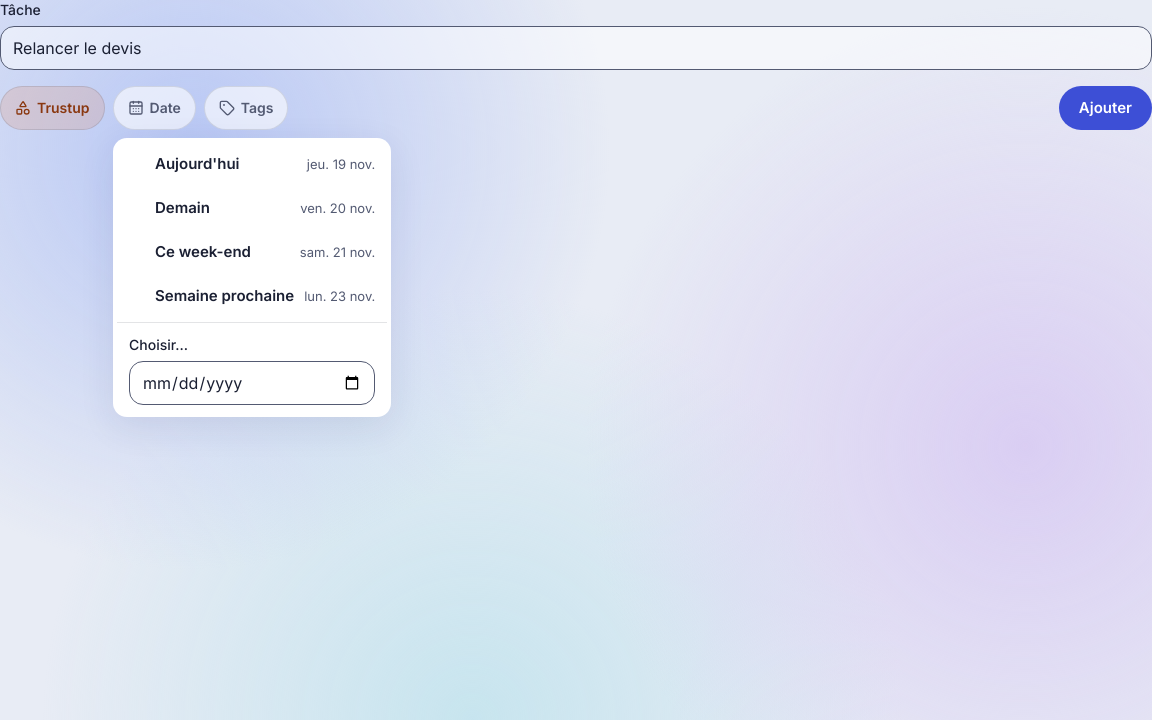
Test case: ajout rapide : formulaire tâche › succès : titre, date et tags vidés, espace gardé, focus au titre, message avec lien Ouvrir
Earlier steps of the test are not shown.
Step 1. Click the button "Demain ven. 20 nov." → [182, 207], box [117, 186, 387, 230]
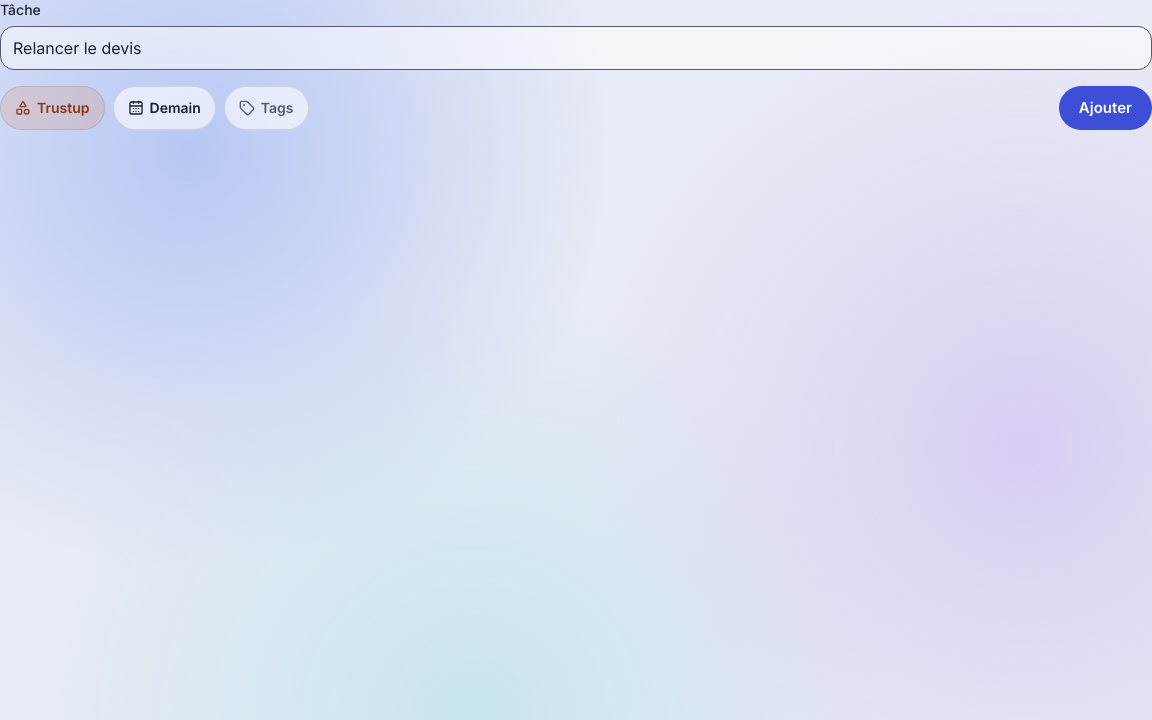
Step 2. Click the button with aria-label "Tags :" → [266, 108], box [224, 86, 308, 130]
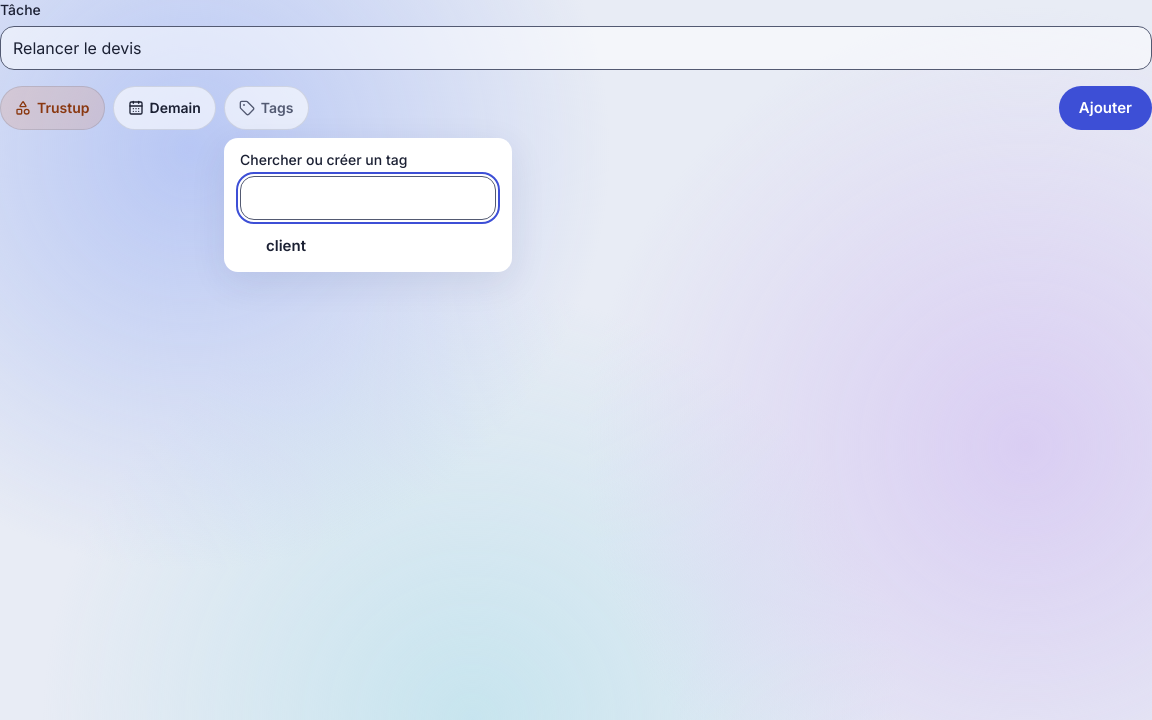
Step 3. Type "devis" into the field labelled "Chercher ou créer un tag" → [368, 198], box [240, 176, 496, 220]
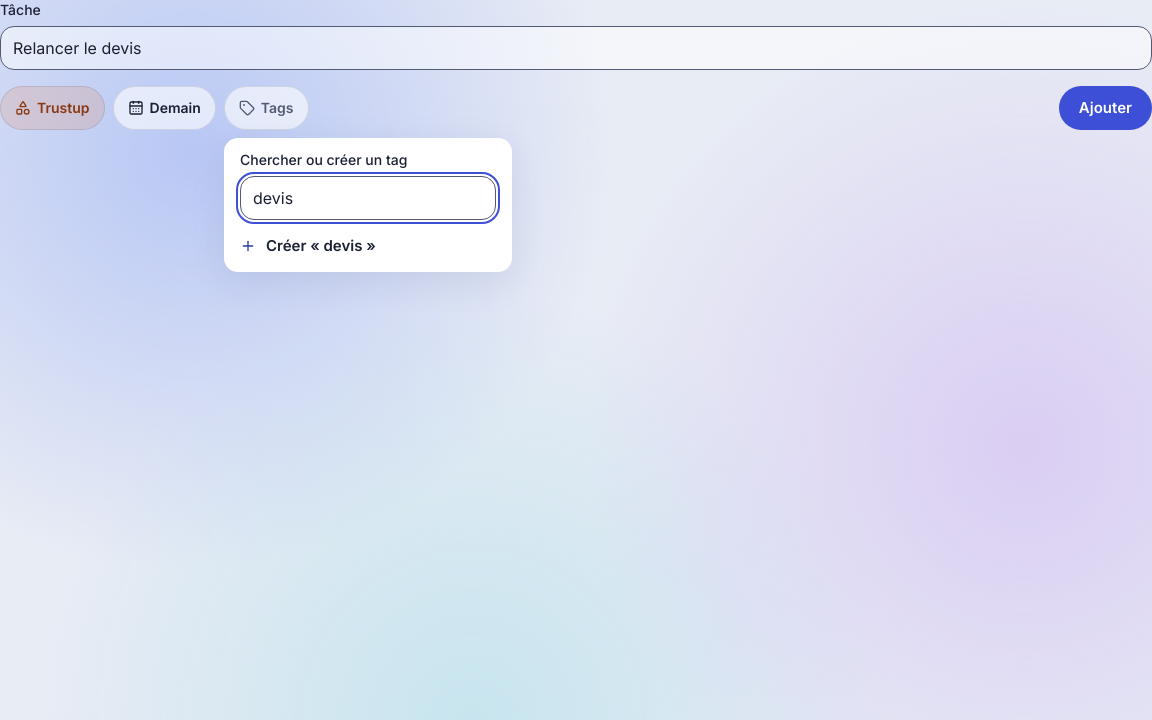
Step 4. Click the button "Créer « devis »" → [368, 246], box [228, 224, 508, 268]
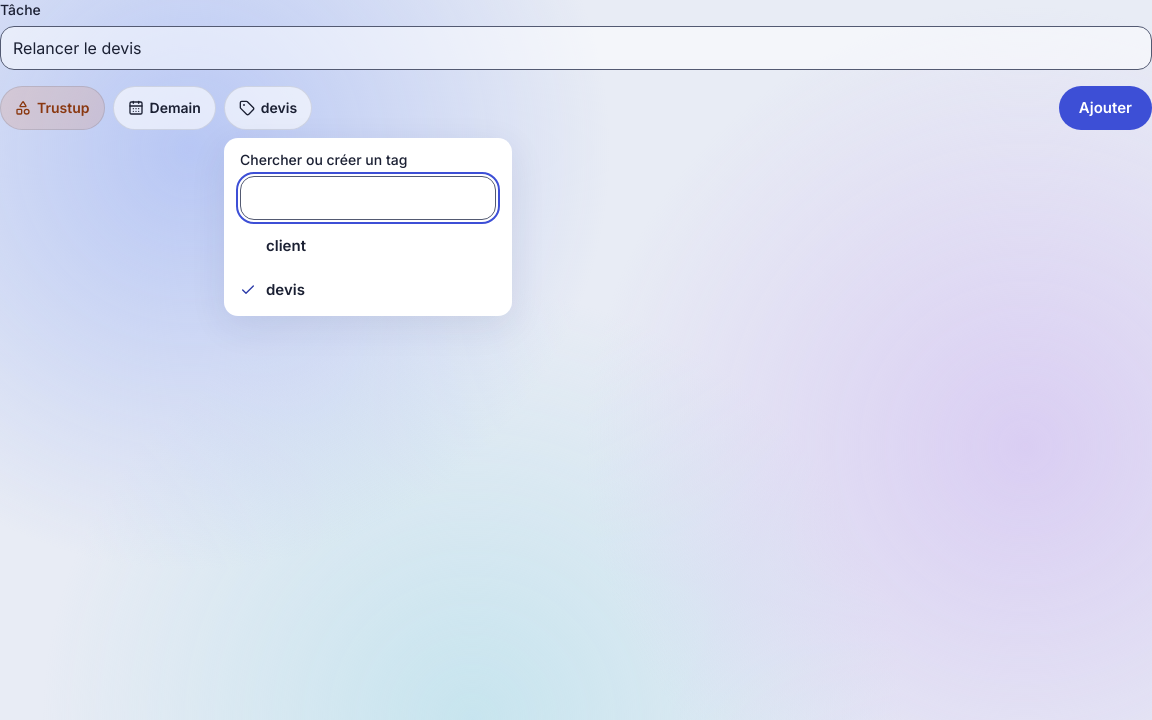
Step 5. Press Escape in the field labelled "Chercher ou créer un tag", box [240, 176, 496, 220]
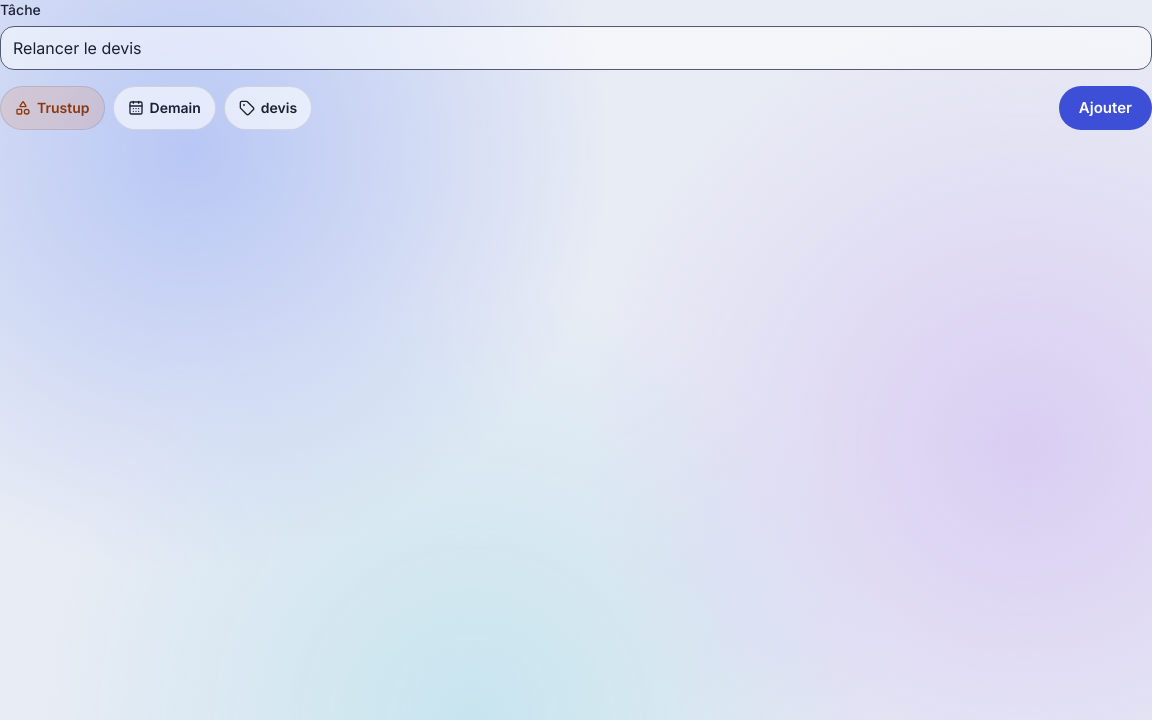
Step 6. Click the button "Ajouter" → [1105, 108], box [1059, 86, 1151, 130]
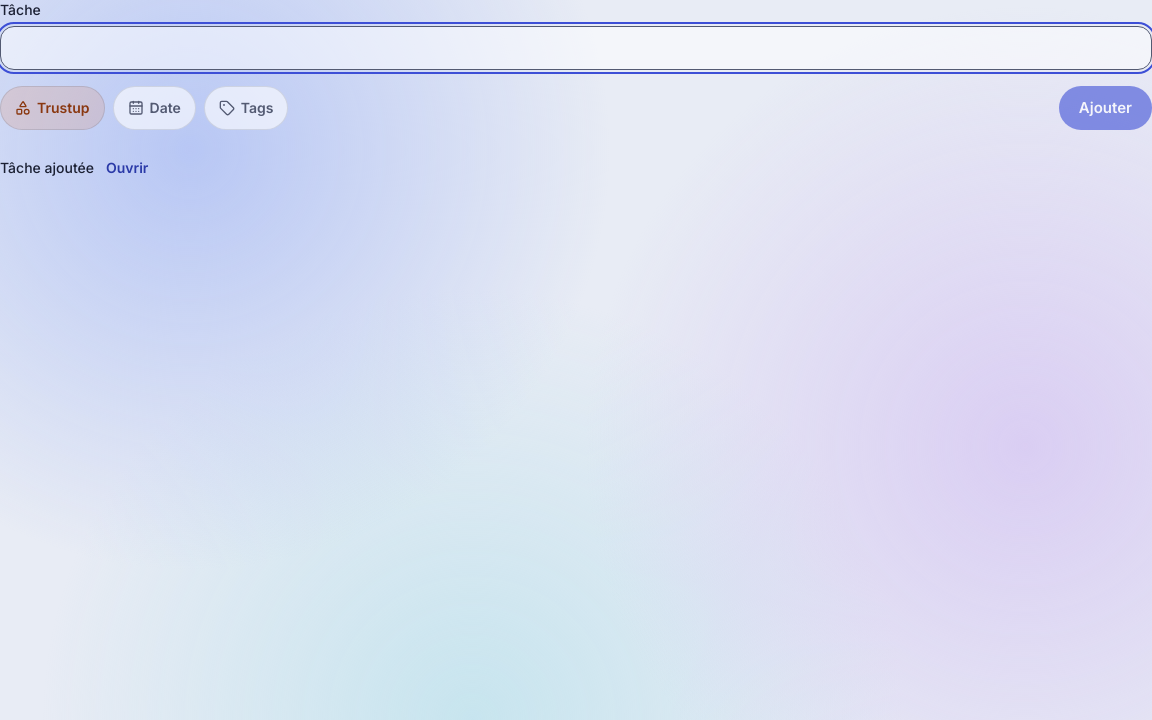
Expected: the message with test id "quick-add-status" shows "Tâche ajoutée", [0, 159, 94, 176]
Expected: the field labelled "Tâche" is empty, [0, 26, 1151, 70]
